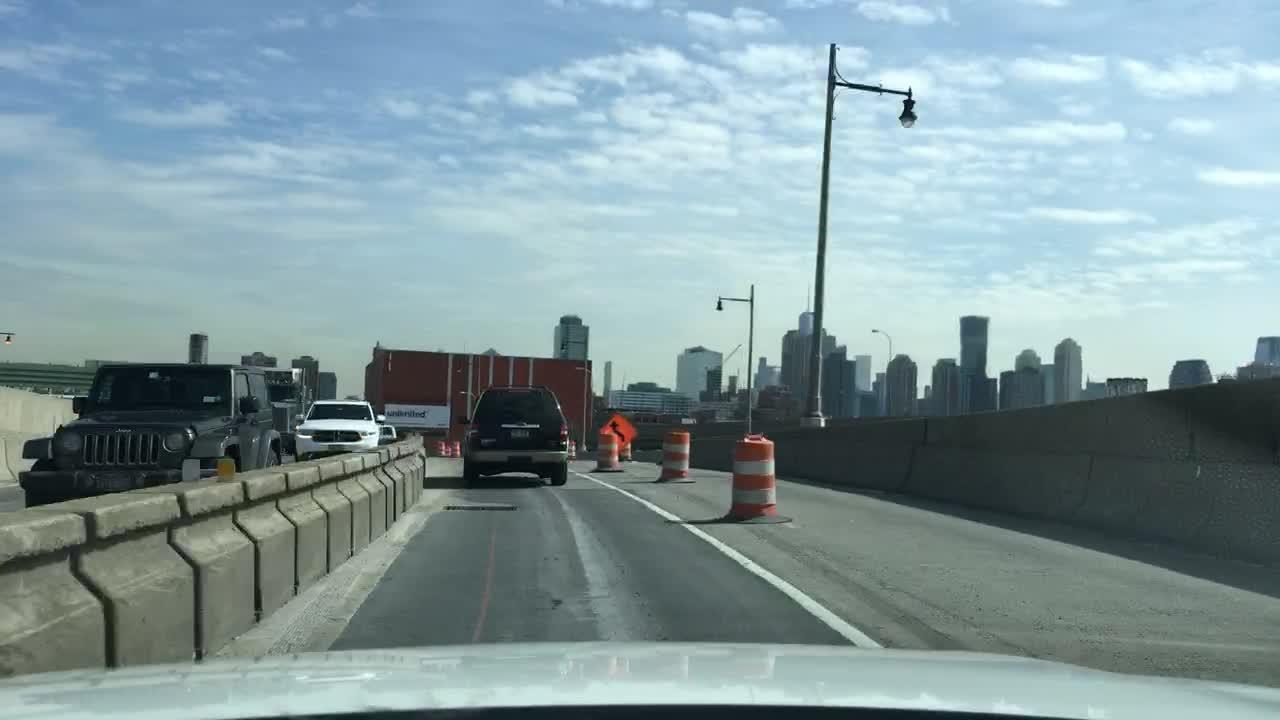jeep: (113, 426, 135, 436)
